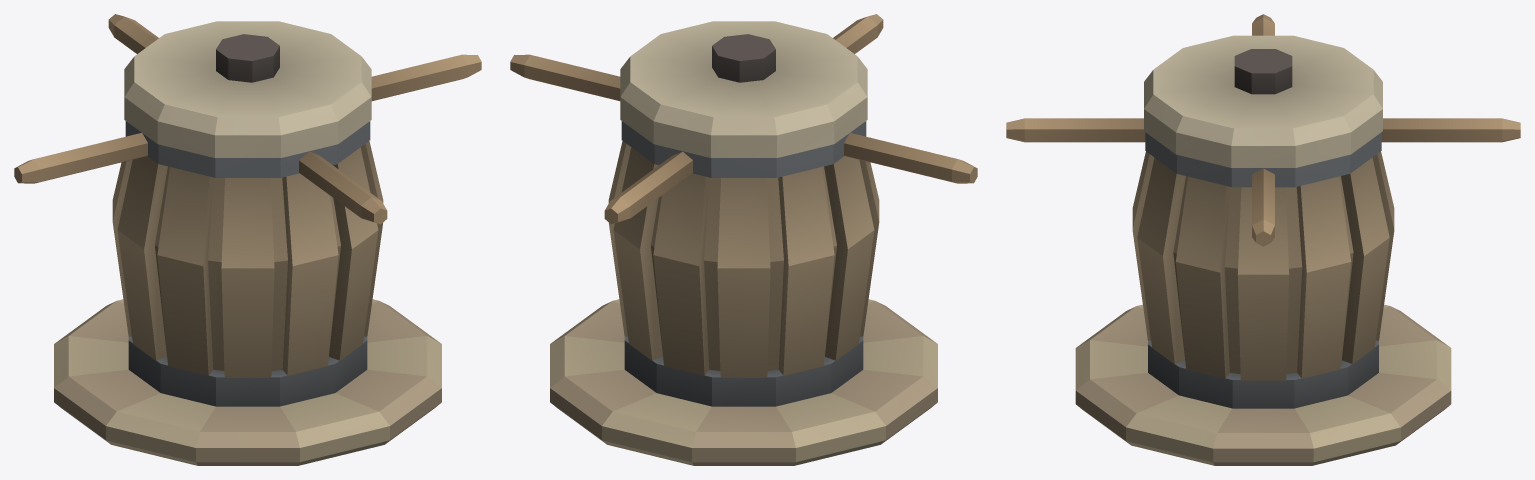
The model's file is capstan.glb.
3 views of the same model, side by side, from view 1: azimuth 30°, elevation 25°; view 2: azimuth 150°, elevation 25°; view 3: azimuth 270°, elevation 25° (orthographic). The views are drawn at different scales.
Parts seen in each view (by area): view 1: capstan; view 2: capstan; view 3: capstan.
Boxes of the visible parts, x1,y1,x2,y2 form: capstan: (14,14,481,465); capstan: (510,14,977,465); capstan: (1006,14,1520,465).
Size of the model in its own units: 1.56 by 1.1 by 1.56.
